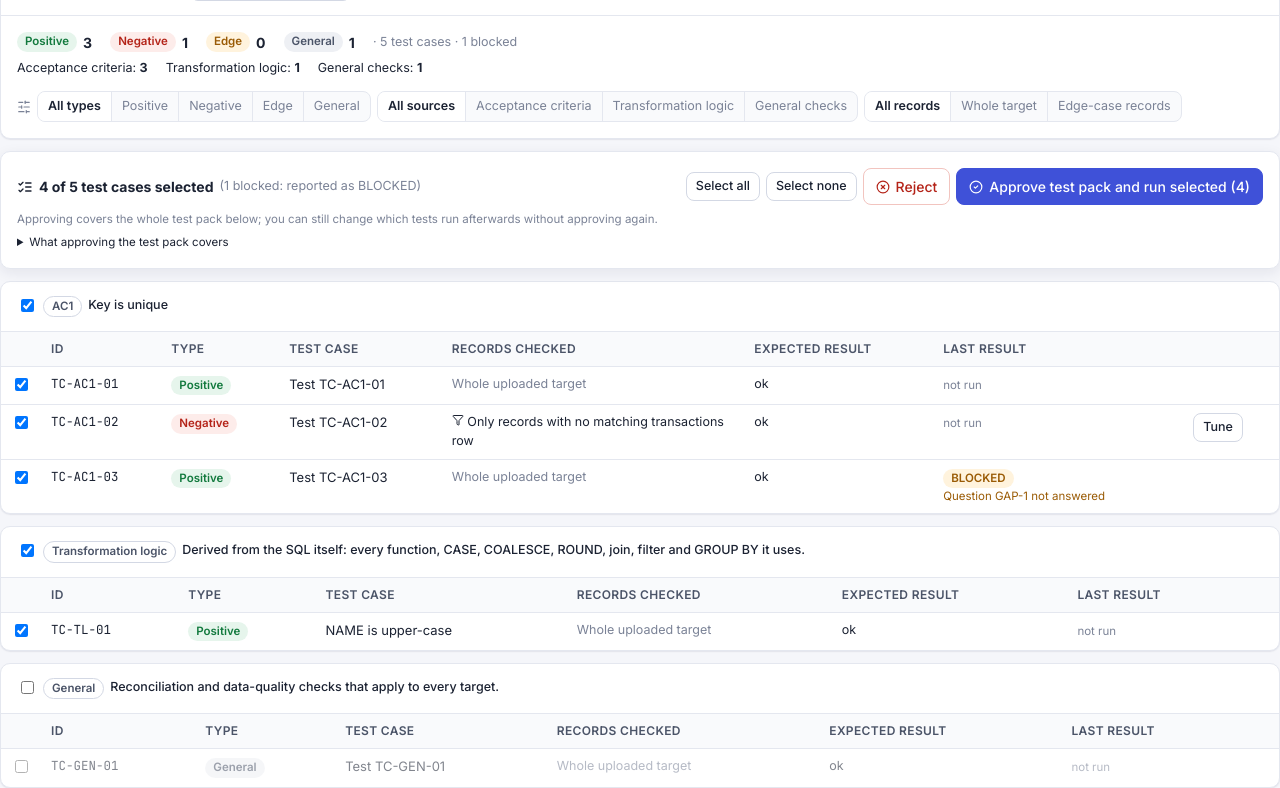
it: Test cases › selecting and deselecting is saved immediately
(page scrolled)
Click the checkbox named "Select TC-GEN-01" at (22, 767), box [15,760,28,773]
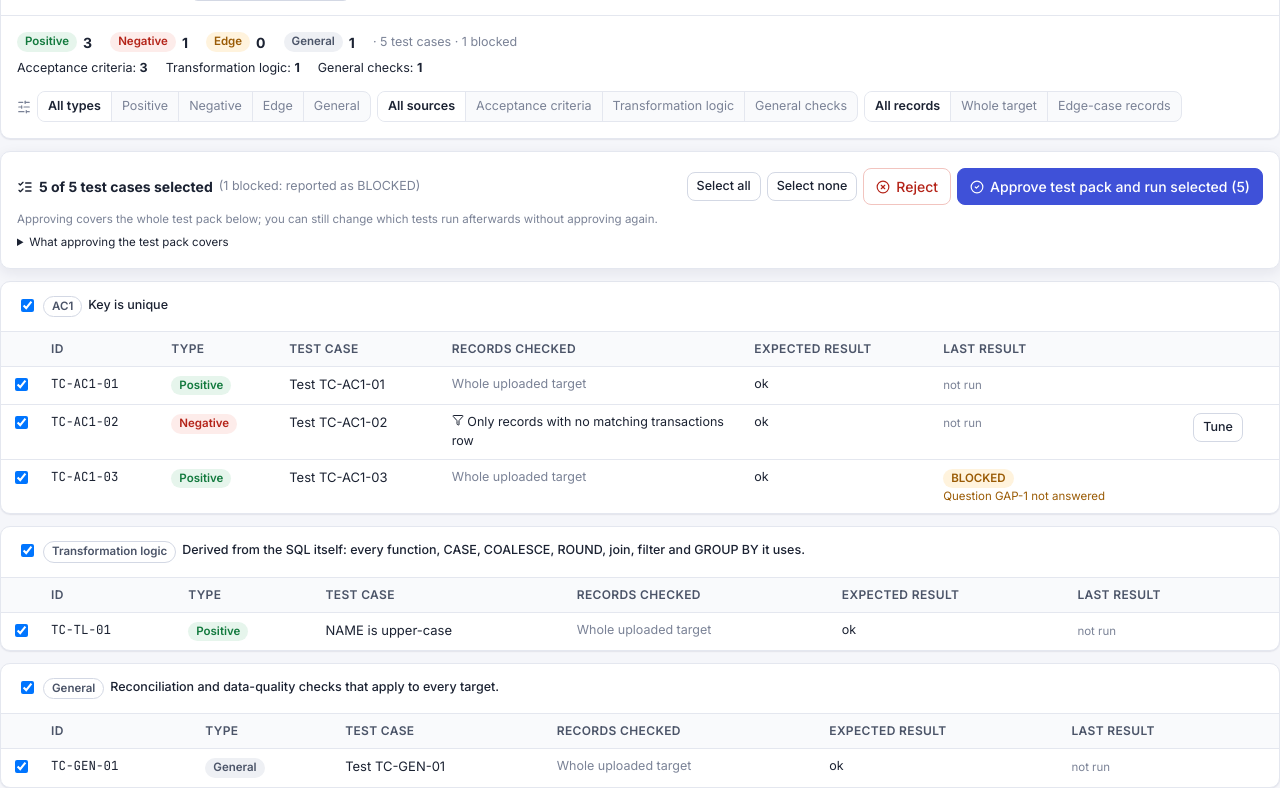
Expected: the text "5 of 5 test cases selected" is shown, [39,176,213,197]
Click the button "Select none" at (812, 186), box [767,172,857,201]
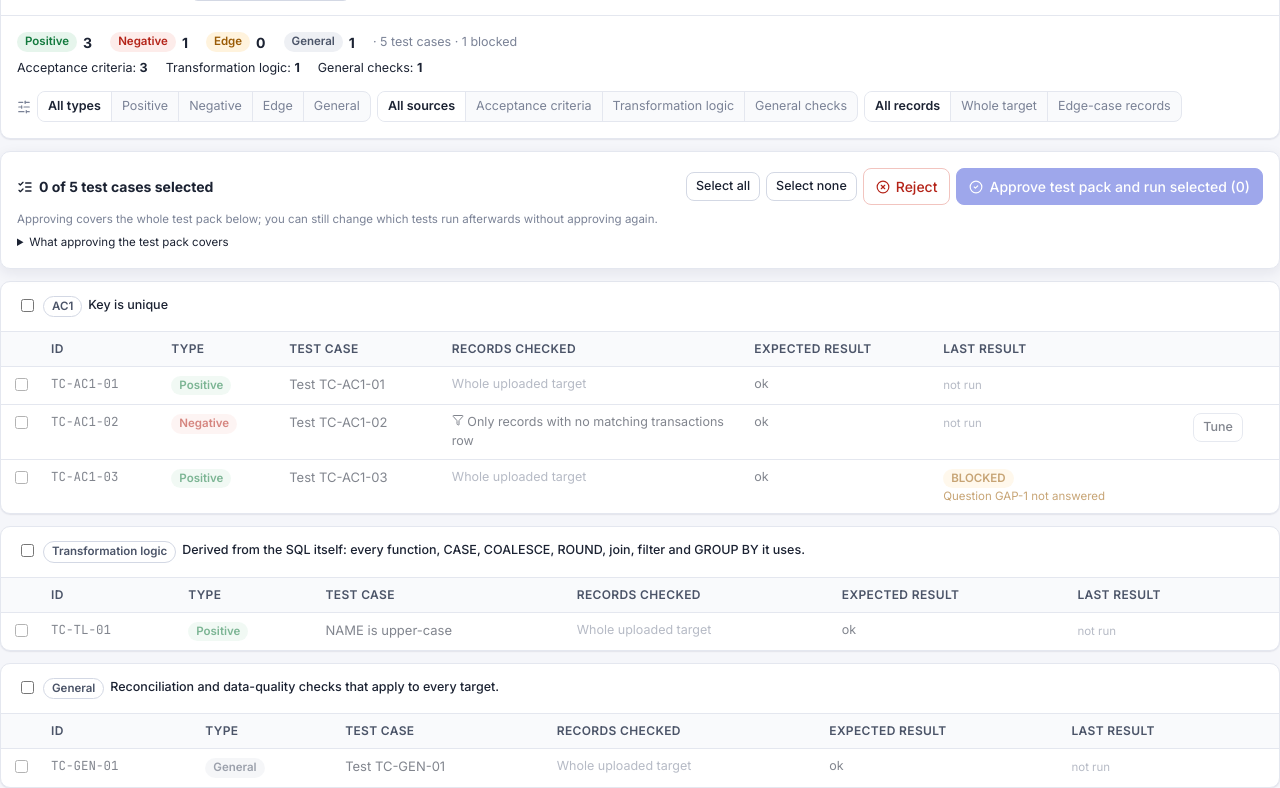
Expected: the text "0 of 5 test cases selected" is shown, [39,176,214,197]
